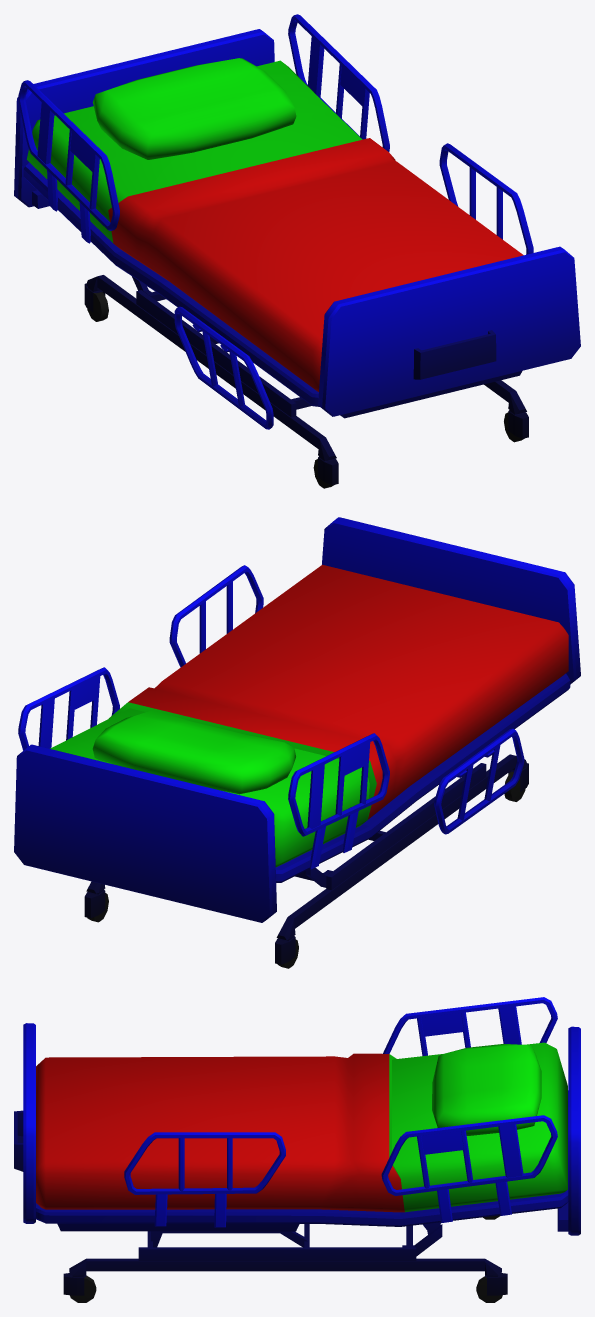
Rendered from HospitalBedA.FBX.
3 renders of one model, top to bottom at view 1: azimuth 30°, elevation 25°; view 2: azimuth 150°, elevation 25°; view 3: azimuth 270°, elevation 25°, orthographic. The views are drawn at different scales.
Visible parts, largest first — view 1: Hospital_Bed_A; view 2: Hospital_Bed_A; view 3: Hospital_Bed_A.
Boxes of the visible parts, <box> form: Hospital_Bed_A: <box>14,14,580,488</box>; Hospital_Bed_A: <box>14,517,580,968</box>; Hospital_Bed_A: <box>14,997,580,1302</box>.
Bounding box in the file's own units: 134 × 106 × 267.
